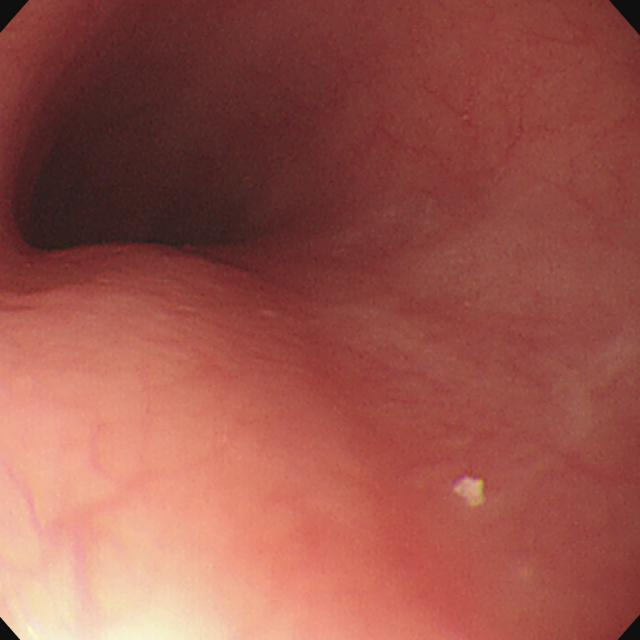U: (453, 476, 487, 506)
